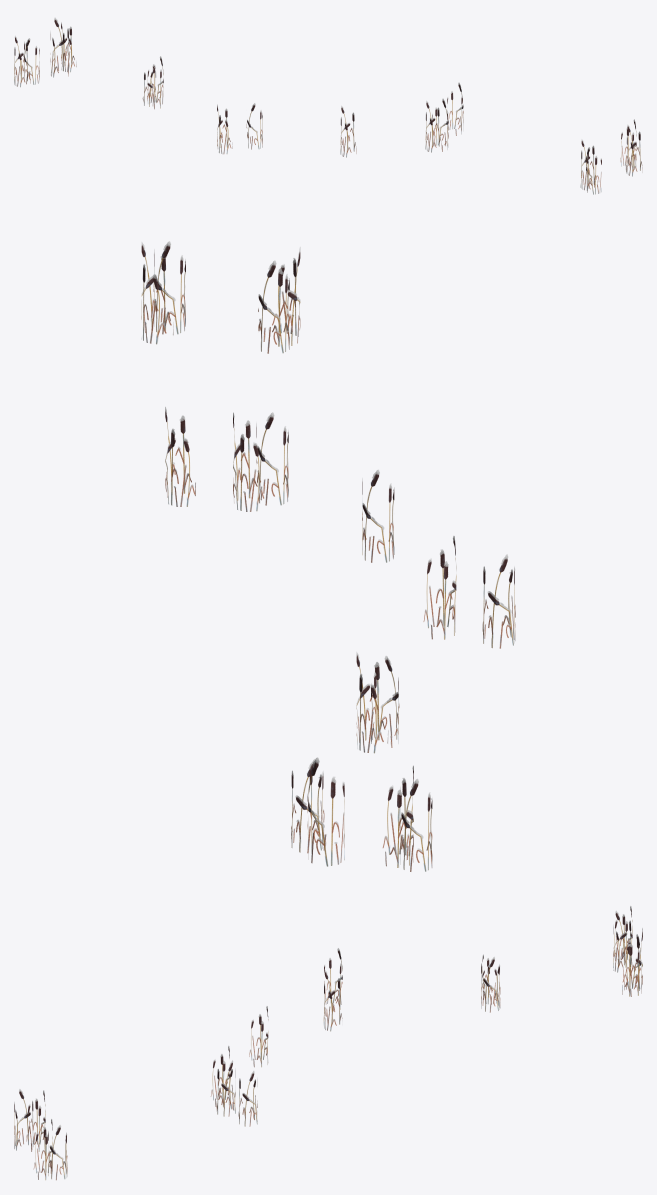
The model's file is foliage.glb.
3 renders of one model, top to bottom at view 1: azimuth 30°, elevation 25°; view 2: azimuth 150°, elevation 25°; view 3: azimuth 270°, elevation 25°, orthographic. The views are drawn at different scales.
Parts seen in each view (by area): view 1: plant_04; view 2: plant_04; view 3: plant_04.
Part boxes in pixels (box(x1,y1,x2,y2)): plant_04: box(14, 17, 642, 194); plant_04: box(141, 241, 515, 871); plant_04: box(14, 906, 642, 1180).
Bounding box in the file's own units: 40.95 × 5.78 × 49.26.
1 material, 1 textured.
